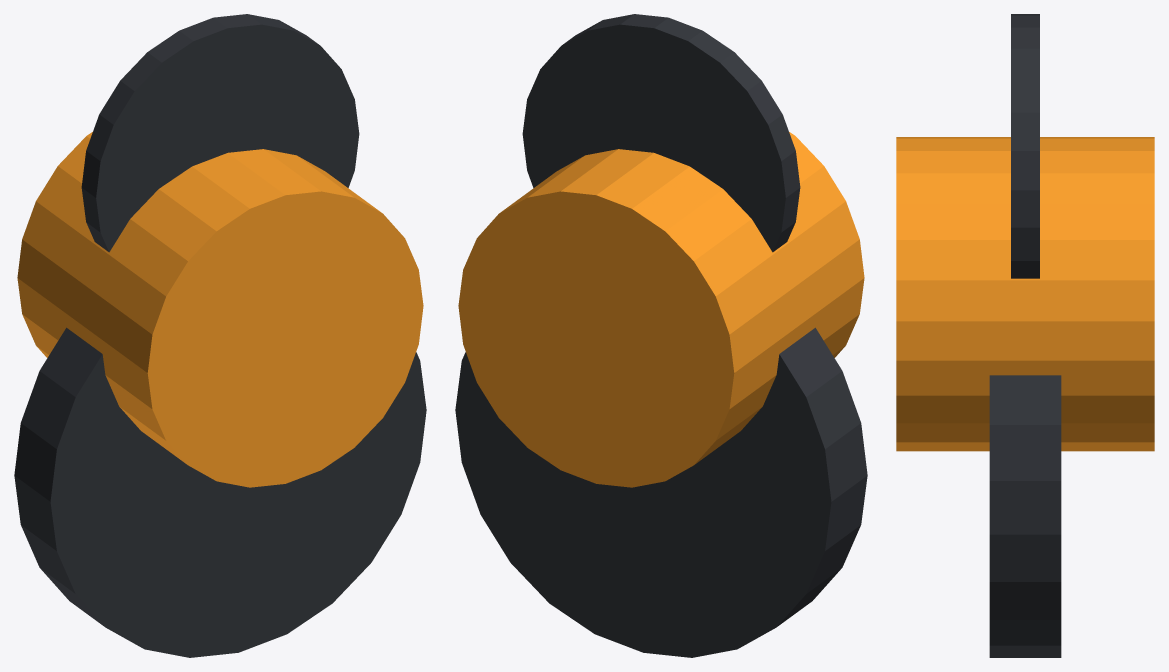
The model's file is beacon.glb.
3 views of the same model, side by side, from view 1: azimuth 30°, elevation 25°; view 2: azimuth 150°, elevation 25°; view 3: azimuth 270°, elevation 25° (orthographic).
Parts seen in each view (by area): view 1: lens, base, cap; view 2: lens, base, cap; view 3: lens, base, cap.
Boxes of the visible parts, x1=… form: lens: x1=17, y1=132, x2=423, y2=487; base: x1=14, y1=327, x2=426, y2=657; cap: x1=81, y1=14, x2=359, y2=252; lens: x1=458, y1=132, x2=864, y2=487; base: x1=455, y1=327, x2=867, y2=657; cap: x1=522, y1=14, x2=800, y2=252; lens: x1=896, y1=137, x2=1154, y2=451; base: x1=989, y1=375, x2=1061, y2=657; cap: x1=1011, y1=14, x2=1039, y2=278.
Size of the model in its own units: 0.3 by 0.47 by 0.18.
